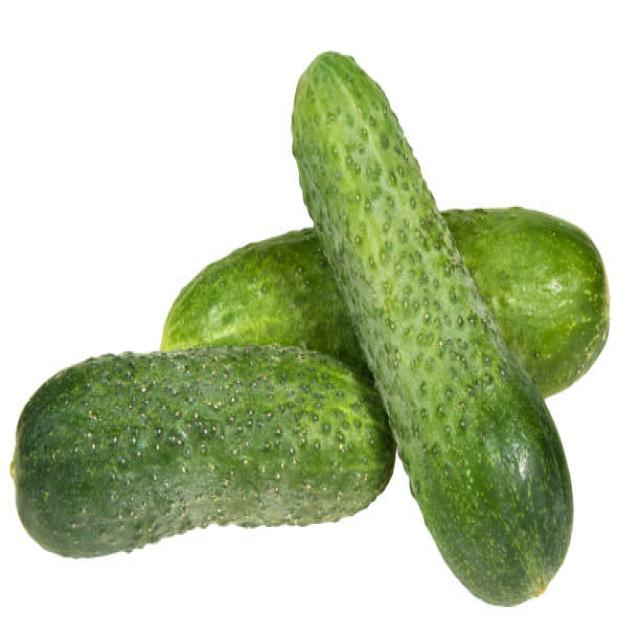cucumber: (291, 47, 574, 607), (162, 207, 610, 395), (12, 338, 394, 558)
